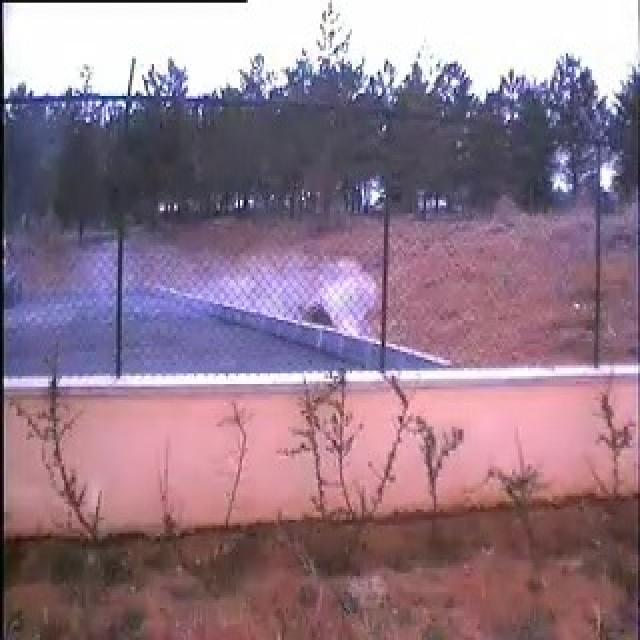smoke: (68, 230, 376, 370)
